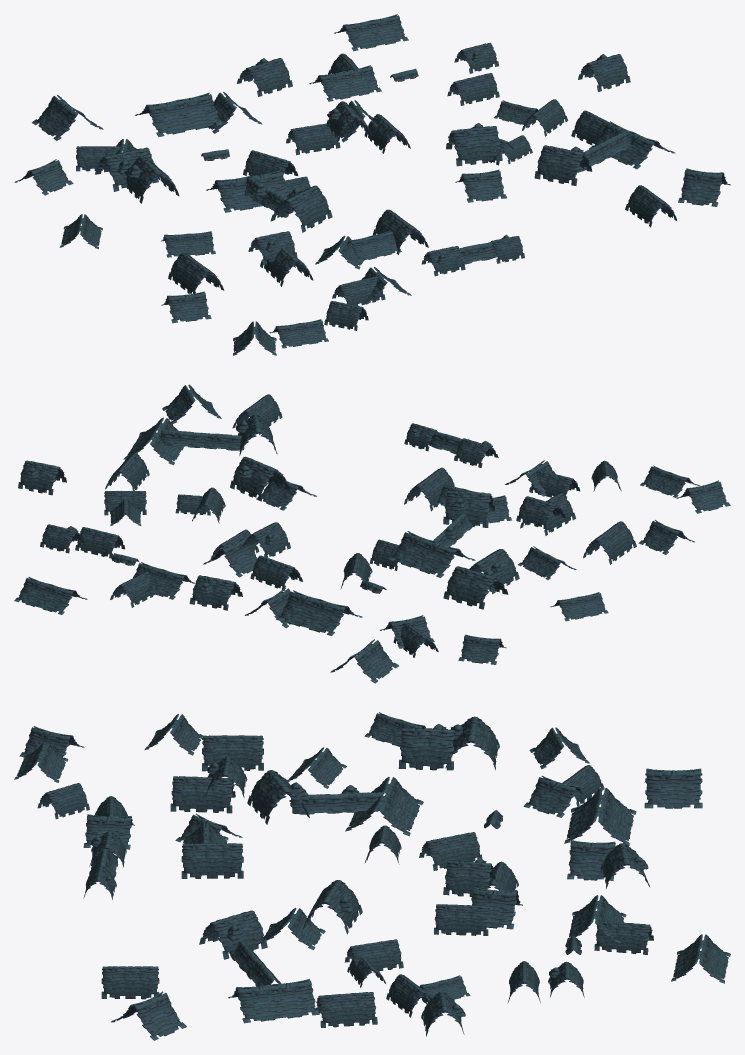
The model's file is BlueRoofsBLock1.FBX.
3 views of the same model, one above another, from view 1: azimuth 30°, elevation 25°; view 2: azimuth 150°, elevation 25°; view 3: azimuth 270°, elevation 25° (orthographic). The views are drawn at different scales.
Visible parts, largest first — view 1: Blue_Roof_Low_Preparation077; view 2: Blue_Roof_Low_Preparation077; view 3: Blue_Roof_Low_Preparation077.
Boxes of the visible parts, x1,y1,x2,y2 form: Blue_Roof_Low_Preparation077: (14, 14, 730, 355); Blue_Roof_Low_Preparation077: (14, 384, 730, 683); Blue_Roof_Low_Preparation077: (14, 712, 730, 1040).
Size of the model in its own units: 11071 by 968 by 10190.
